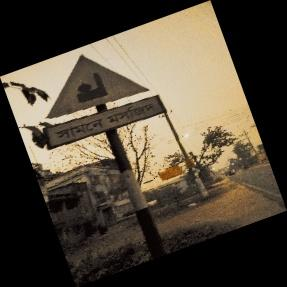Mosque in front: (42, 54, 171, 154)
